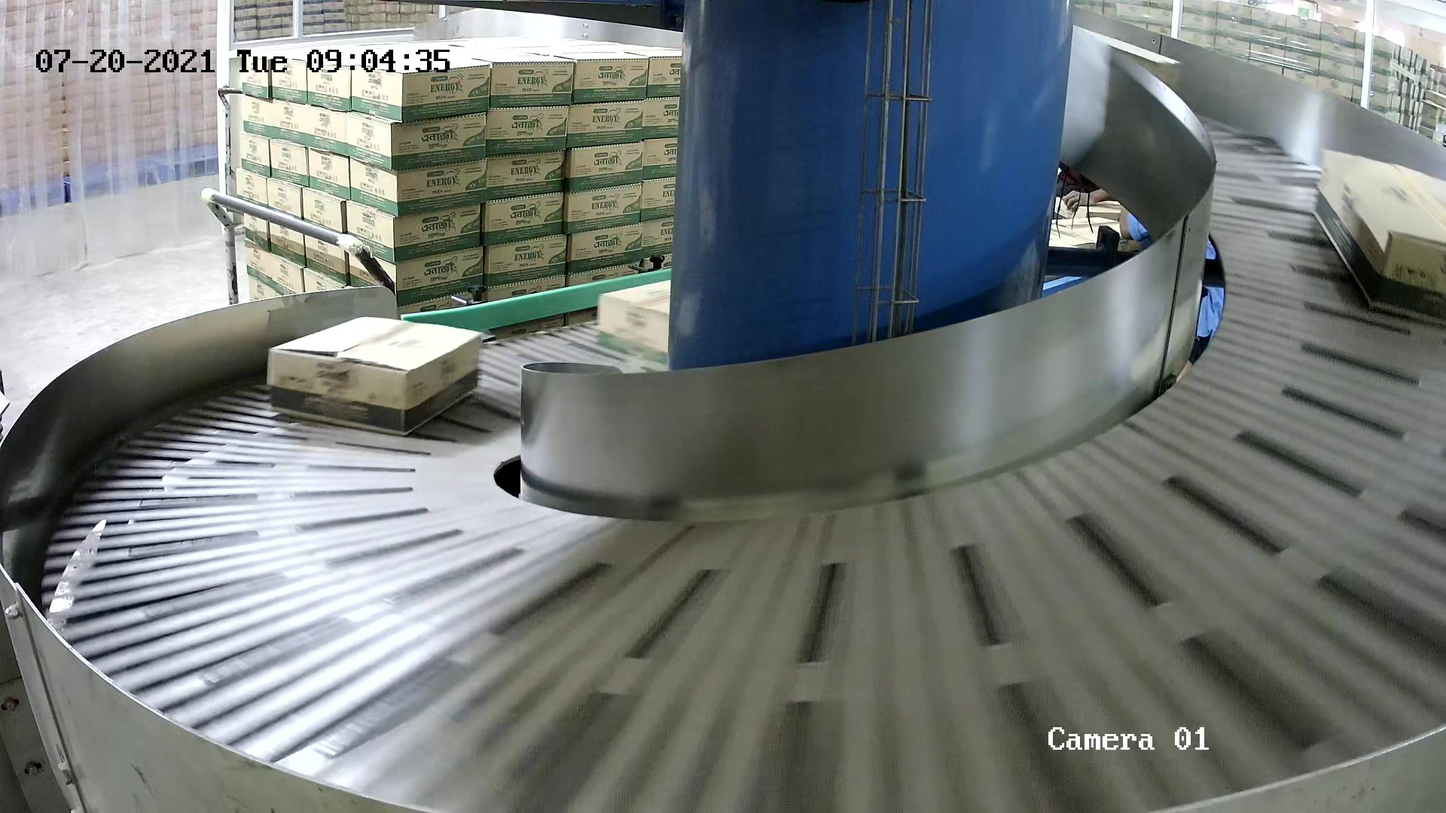Box: (266, 315, 483, 438), (1310, 147, 1446, 328), (596, 279, 671, 367)
